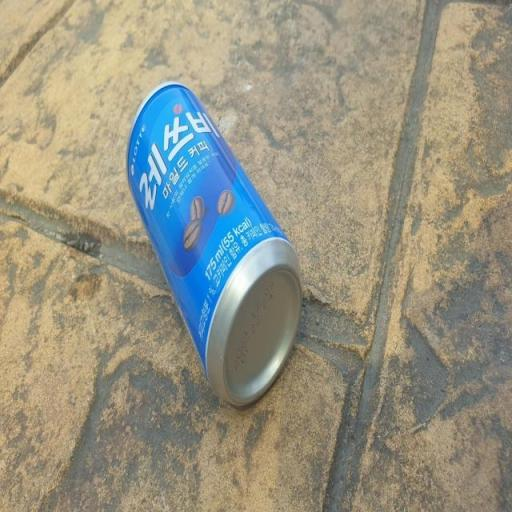metal: (110, 60, 314, 424)
